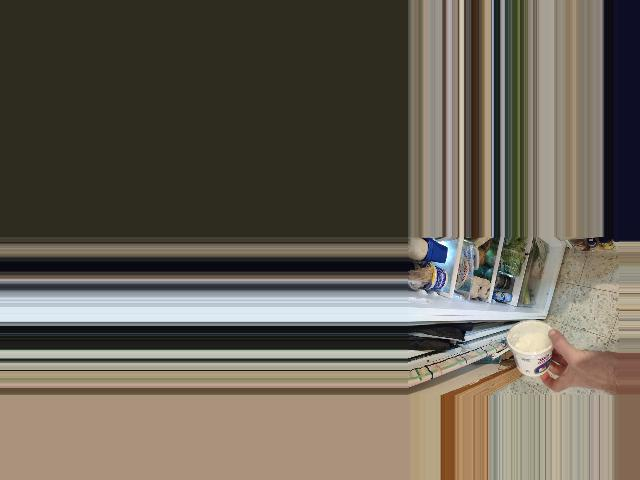cotage: (510, 315, 555, 374)
